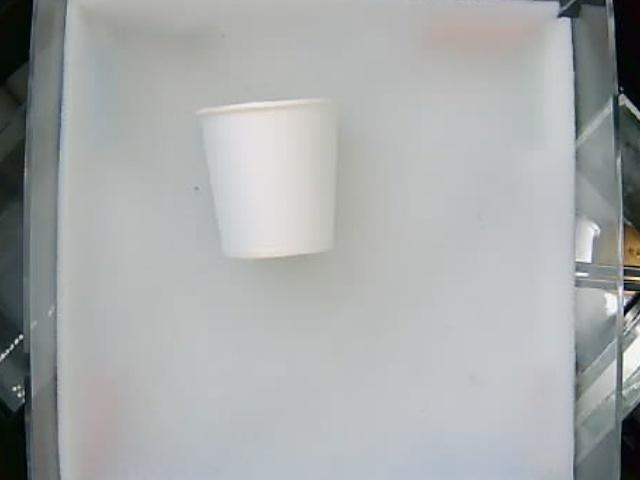Cup: (195, 97, 340, 260)
